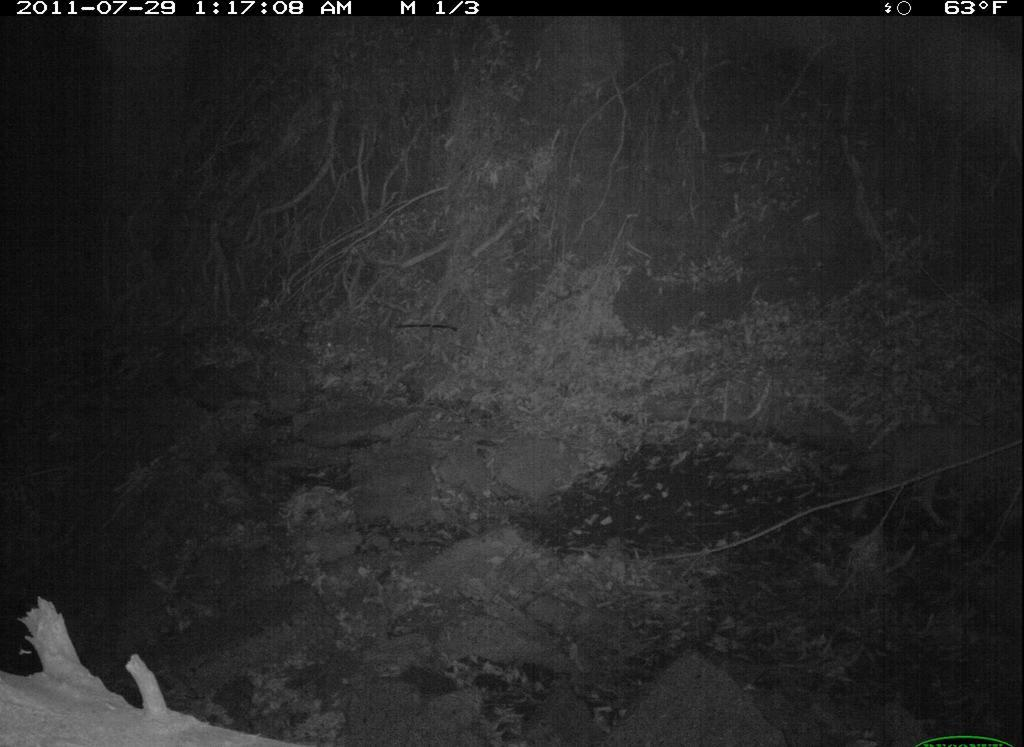coyote: (748, 187, 1016, 667)
